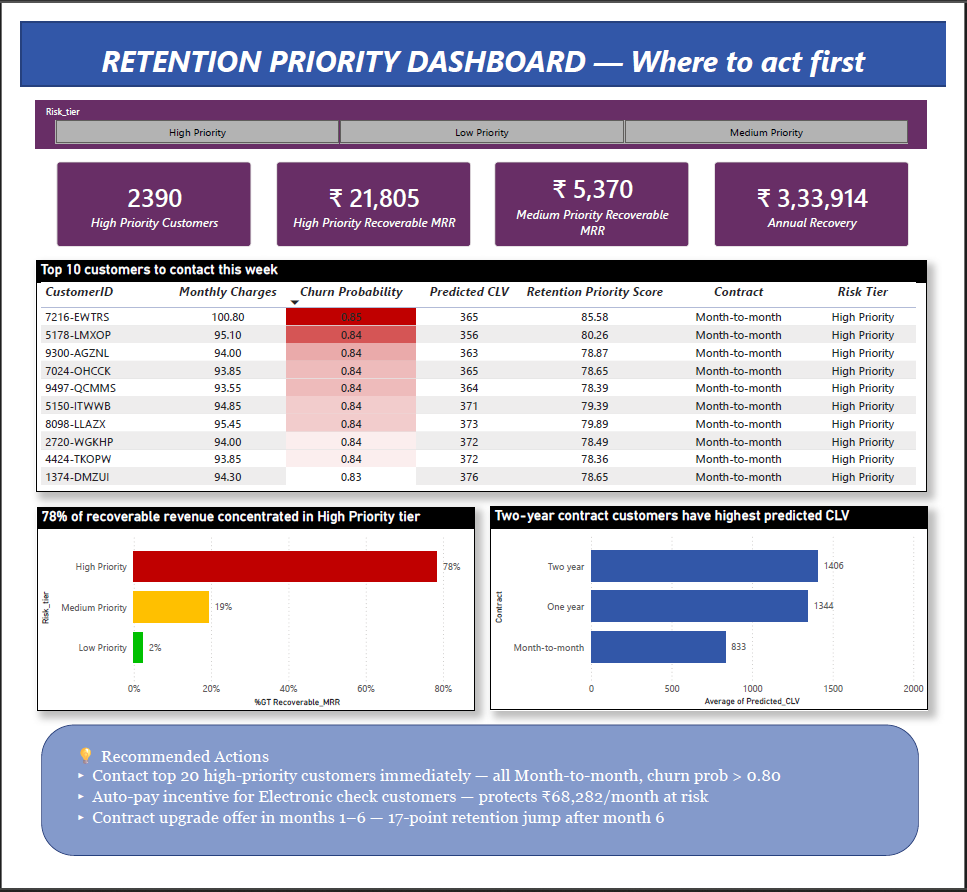

The dashboard page shown, as its layout file describes it:
{"tool":"powerbi","page":{"name":"What to act on","canvas":[1200,1100],"ordinal":1},"visuals":[{"type":"shape","box":[0,0,1280,84],"z":0},{"type":"tableEx","title":"Top 10 customers to contact this week","fields":{"Values":["telco_churn_scored.customerID","Sum(telco_churn_scored.MonthlyCharges)","Sum(telco_churn_scored.Churn_probability)","Sum(telco_churn_scored.Predicted_CLV)","Sum(telco_churn_scored.Retention_Priority_Score)","telco_churn_scored.Contract","telco_churn_scored.Risk_tier"]},"box":[20,310,1155,300],"z":1000},{"type":"cardVisual","fields":{"Data":["CountNonNull(telco_churn_scored.Risk_tier)"]},"box":[30,165,286,144],"z":2000,"group":"g1"},{"type":"clusteredBarChart","title":"78% of recoverable revenue concentrated in High Priority tier","fields":{"Category":["telco_churn_scored.Risk_tier"],"Y":["telco_churn_scored.Recoverable_MRR"]},"box":[21.1,629.7,568,264],"z":2000},{"type":"clusteredBarChart","title":"Two-year contract customers have highest predicted CLV","fields":{"Category":["telco_churn_scored.Contract"],"Y":["Avg(telco_churn_scored.Predicted_CLV)"]},"box":[609.3,629.3,568,264],"z":3000},{"type":"slicer","fields":{"Values":["telco_churn_scored.Risk_tier"]},"box":[20,102.5,1155,62.5],"z":4000},{"type":"cardVisual","fields":{"Data":["telco_churn_scored.Recoverable_MRR"]},"box":[315,165,286,144],"z":4000,"group":"g1"},{"type":"group","id":"g1","title":"Group 1","box":[30,165,1137.5,145],"z":5000},{"type":"cardVisual","fields":{"Data":["telco_churn_scored.Recoverable_MRR"]},"box":[597.5,165,286,144],"z":5000,"group":"g1"},{"type":"textbox","box":[0,10,1200,84],"z":6000},{"type":"cardVisual","fields":{"Data":["telco_churn_scored.Annual_Recovery"]},"box":[882.5,165,286,144],"z":7000,"group":"g1"},{"type":"shape","box":[26.7,896.7,1137.5,185],"z":7000,"group":"g2"},{"type":"textbox","box":[64.2,931.7,1040,127.5],"z":8000,"group":"g2"},{"type":"group","id":"g2","title":"Group 2","box":[26.7,896.7,1136.7,183.3],"z":8001}]}

Visuals, with their boxes in screenshot pixels (x1, y1, x2, y2), scaled from the page's 1200x1100 canvas onto the 967x892 screenshot:
shape: locate(0, 0, 966, 68)
"Top 10 customers to contact this week" tableEx: locate(16, 251, 947, 495)
cardVisual - CountNonNull(telco_churn_scored.Risk_tier): locate(24, 134, 255, 251)
"78% of recoverable revenue concentrated in High Priority tier" clusteredBarChart: locate(17, 511, 475, 725)
"Two-year contract customers have highest predicted CLV" clusteredBarChart: locate(491, 510, 949, 724)
slicer - telco_churn_scored.Risk_tier: locate(16, 83, 947, 134)
cardVisual - telco_churn_scored.Recoverable_MRR: locate(254, 134, 484, 251)
"Group 1" group: locate(24, 134, 941, 251)
cardVisual - telco_churn_scored.Recoverable_MRR: locate(481, 134, 712, 251)
textbox: locate(0, 8, 966, 76)
cardVisual - telco_churn_scored.Annual_Recovery: locate(711, 134, 942, 251)
shape: locate(22, 727, 938, 877)
textbox: locate(52, 756, 890, 859)
"Group 2" group: locate(22, 727, 938, 876)
